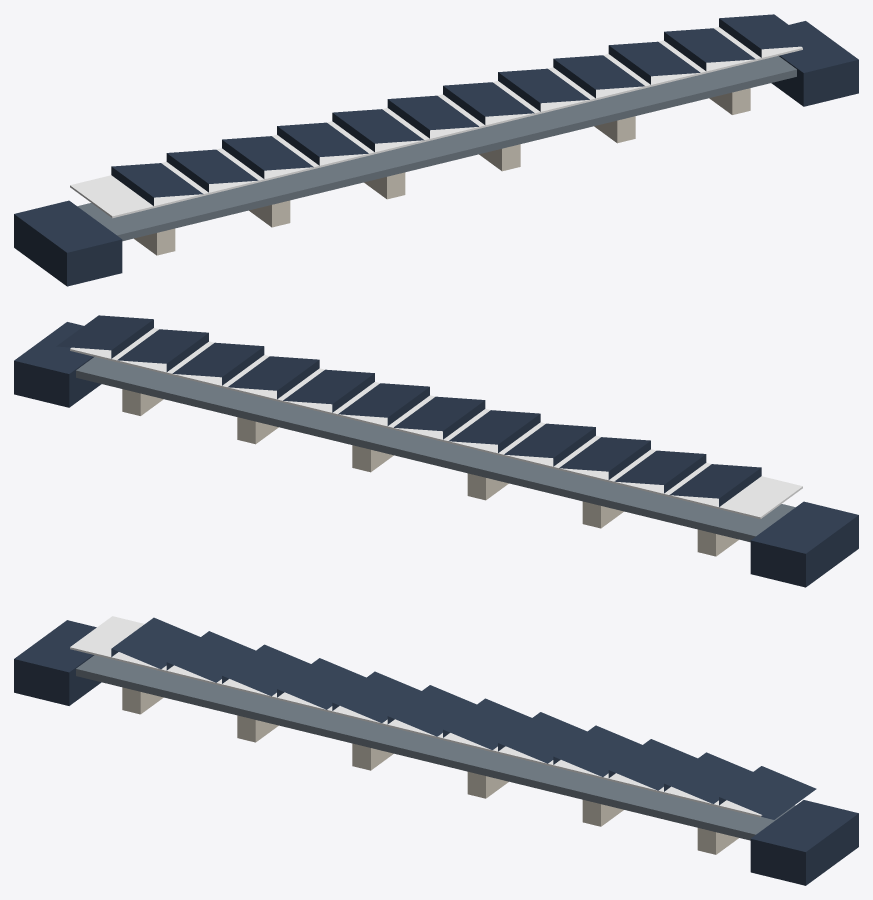
File: terminal_blackfriars.glb
3 renders of one model, top to bottom at view 1: azimuth 30°, elevation 25°; view 2: azimuth 150°, elevation 25°; view 3: azimuth 330°, elevation 25°, orthographic.
Parts seen in each view (by area): view 1: blackfriars; view 2: blackfriars; view 3: blackfriars.
Boxes of the visible parts, <box> form: blackfriars: <box>14,14,858,286</box>; blackfriars: <box>14,315,858,587</box>; blackfriars: <box>14,616,858,885</box>.
Size of the model in its own units: 344 by 26 by 40.
